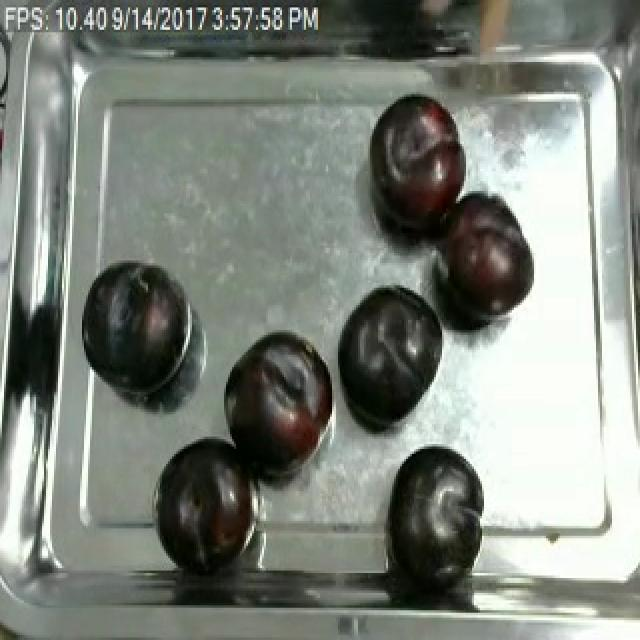Fruit: (218, 328, 342, 487), (328, 280, 446, 439), (76, 258, 192, 399), (366, 89, 472, 243), (382, 441, 492, 583), (152, 432, 262, 566), (432, 188, 538, 325)
